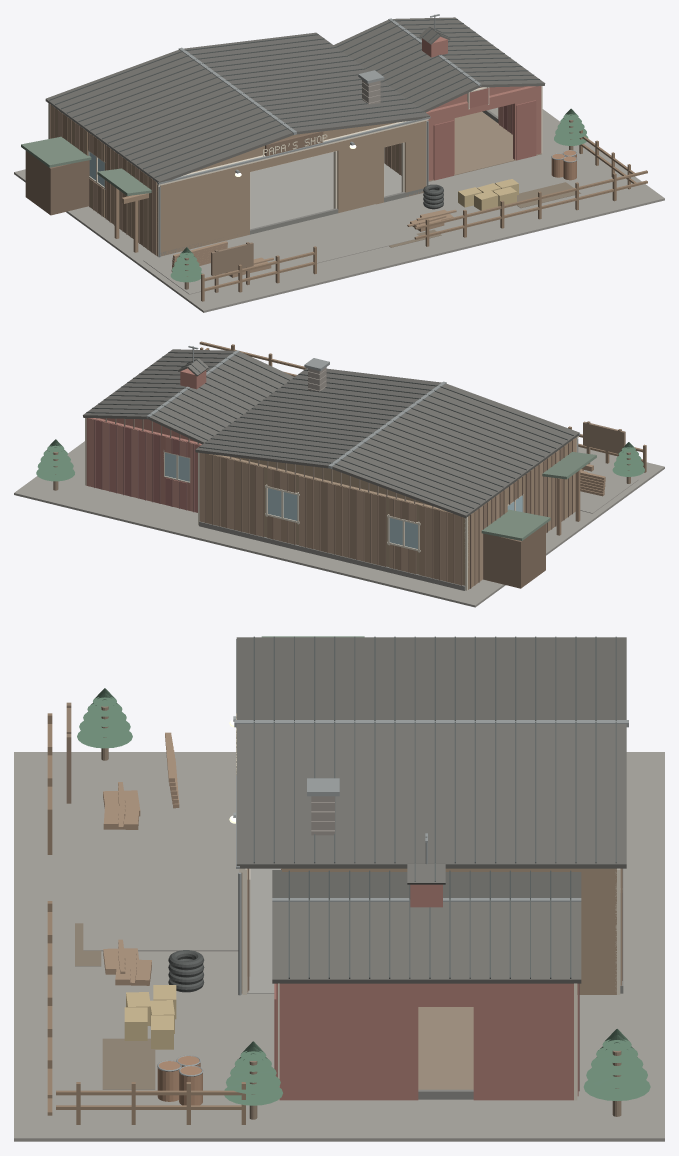
Rendered from papa-shop-barn-production.glb.
3 views of the same model, one above another, from view 1: azimuth 30°, elevation 25°; view 2: azimuth 150°, elevation 25°; view 3: azimuth 270°, elevation 25° (orthographic). The views are drawn at different scales.
Visible parts, largest first — view 1: property_gravel, shop_roof_left, shop_roof_right, shop_apron, shop_rear_wall_0, barn_roof_left, shop_concrete, barn_roof_right, shop_rear_wall_2, service_shed_body, barn_floor, shop_rear_wall_4 (+18 smaller); view 2: shop_roof_left, shop_roof_right, property_gravel, barn_roof_left, barn_roof_right, service_shed_body, shop_gable_front_gable, shop_front_kick, service_shed_roof, shop_apron, property_sign_board, lean_to_roof (+44 smaller); view 3: property_gravel, shop_roof_right, shop_roof_left, shop_apron, barn_roof_right, barn_right_wall_2, barn_right_wall_0, barn_roof_left, shop_right_wall_0, barn_floor, shop_concrete, mud_patch_1 (+13 smaller).
Part boxes in pixels (x1,y1,x2,y2): property_gravel: [14, 107, 664, 312]; shop_roof_left: [45, 49, 293, 182]; shop_roof_right: [184, 32, 429, 134]; shop_apron: [143, 204, 418, 294]; shop_rear_wall_0: [160, 164, 249, 256]; barn_roof_left: [334, 20, 479, 112]; shop_concrete: [250, 152, 401, 228]; barn_roof_right: [393, 17, 545, 87]; shop_rear_wall_2: [337, 131, 383, 212]; service_shed_body: [25, 151, 89, 215]; barn_floor: [428, 111, 541, 181]; shop_rear_wall_4: [404, 121, 426, 196]; shop_roof_left: [332, 383, 579, 518]; shop_roof_right: [195, 368, 441, 468]; property_gravel: [14, 441, 664, 607]; barn_roof_left: [148, 351, 293, 444]; barn_roof_right: [83, 349, 235, 419]; service_shed_body: [484, 524, 545, 588]; shop_gable_front_gable: [217, 455, 445, 511]; shop_front_kick: [199, 521, 465, 590]; service_shed_roof: [481, 509, 550, 540]; shop_apron: [580, 468, 638, 513]; property_sign_board: [583, 421, 625, 453]; lean_to_roof: [542, 452, 596, 479]; property_gravel: [14, 752, 664, 1141]; shop_roof_right: [236, 724, 626, 868]; shop_roof_left: [236, 637, 626, 719]; shop_apron: [83, 756, 239, 951]; barn_roof_right: [272, 902, 581, 983]; barn_right_wall_2: [279, 983, 418, 1100]; barn_right_wall_0: [473, 983, 573, 1100]; barn_roof_left: [272, 870, 581, 897]; shop_right_wall_0: [476, 868, 616, 994]; barn_floor: [418, 1007, 473, 1089]; shop_concrete: [247, 868, 280, 993]; mud_patch_1: [102, 1038, 155, 1089].
Size of the model in its own units: 19.93 by 4.92 by 13.6.
